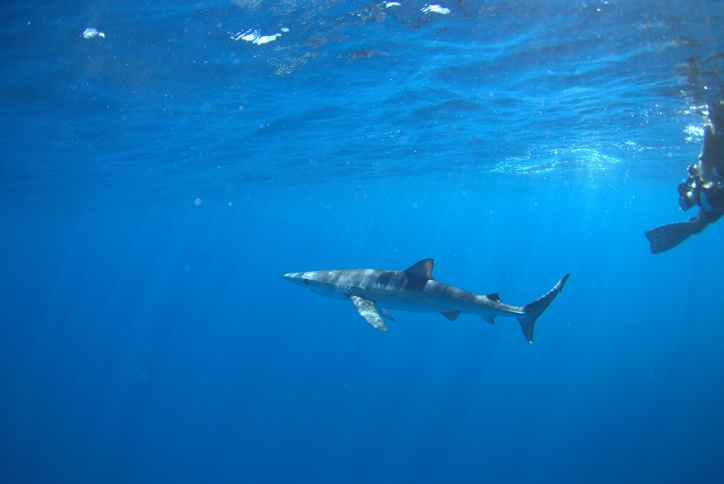Azul: (272, 250, 581, 358)
